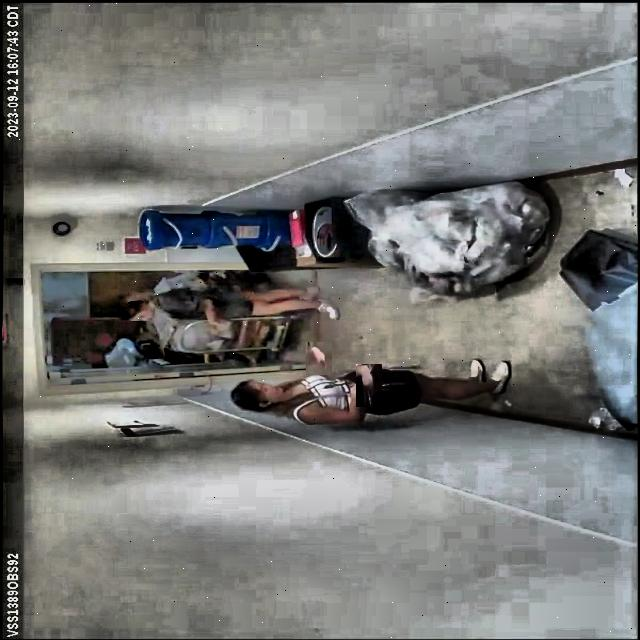not-gloved: (352, 368, 387, 402), (304, 343, 334, 373)
